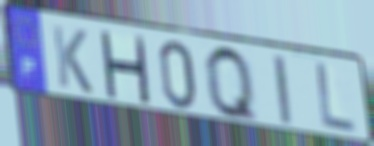0: (156, 38, 200, 112)
H: (97, 28, 152, 107)
I: (270, 53, 295, 127)
K: (50, 22, 96, 97)
L: (314, 60, 357, 137)
Q: (202, 42, 262, 127)
